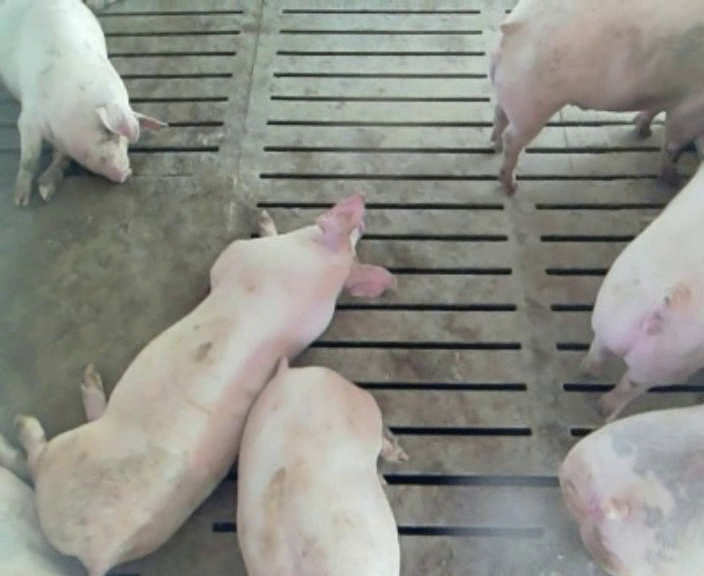pig: (490, 2, 703, 193), (237, 363, 407, 574), (584, 161, 703, 419), (560, 405, 703, 574)
